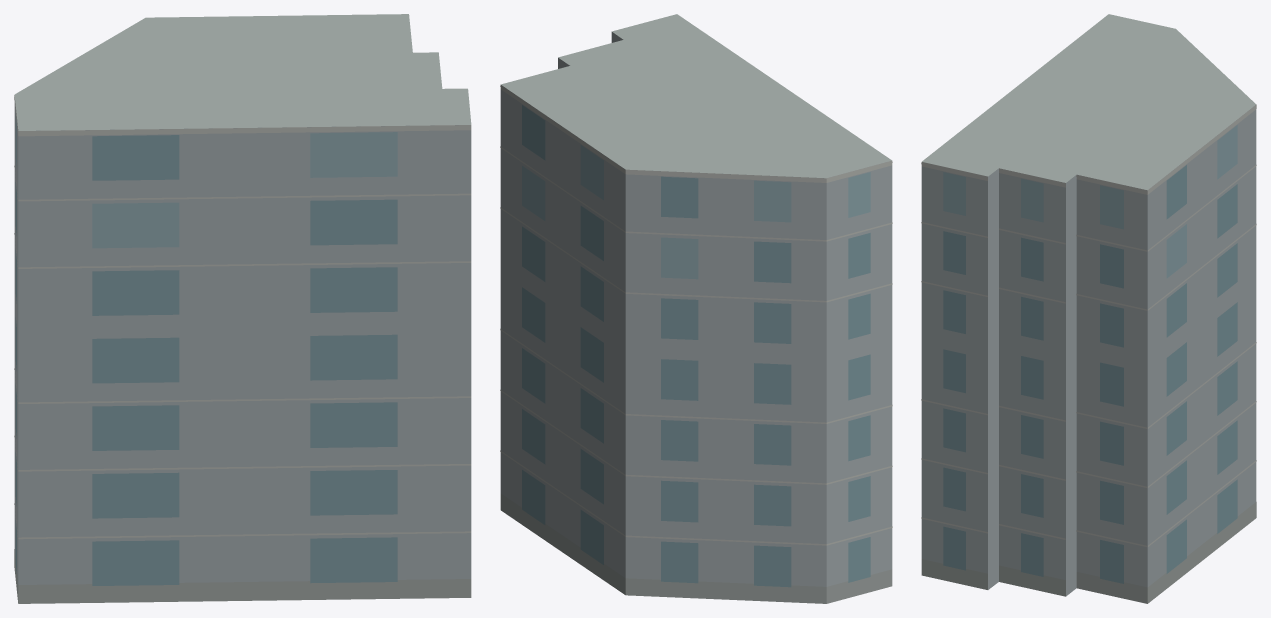
File: survey-upis-32724371.glb
The picture shows the model from 3 angles, left to right: view 1: azimuth 30°, elevation 25°; view 2: azimuth 150°, elevation 25°; view 3: azimuth 270°, elevation 25°; orthographic projection. The views are drawn at different scales.
Visible parts, largest first — view 1: survey-upis-32724371.tmp; view 2: survey-upis-32724371.tmp; view 3: survey-upis-32724371.tmp.
Part boxes in pixels (box(x1,y1,x2,y2)): survey-upis-32724371.tmp: box(14, 14, 471, 603); survey-upis-32724371.tmp: box(500, 14, 892, 603); survey-upis-32724371.tmp: box(921, 14, 1256, 603).
Size of the model in its own units: 19.76 by 21.6 by 15.87.
